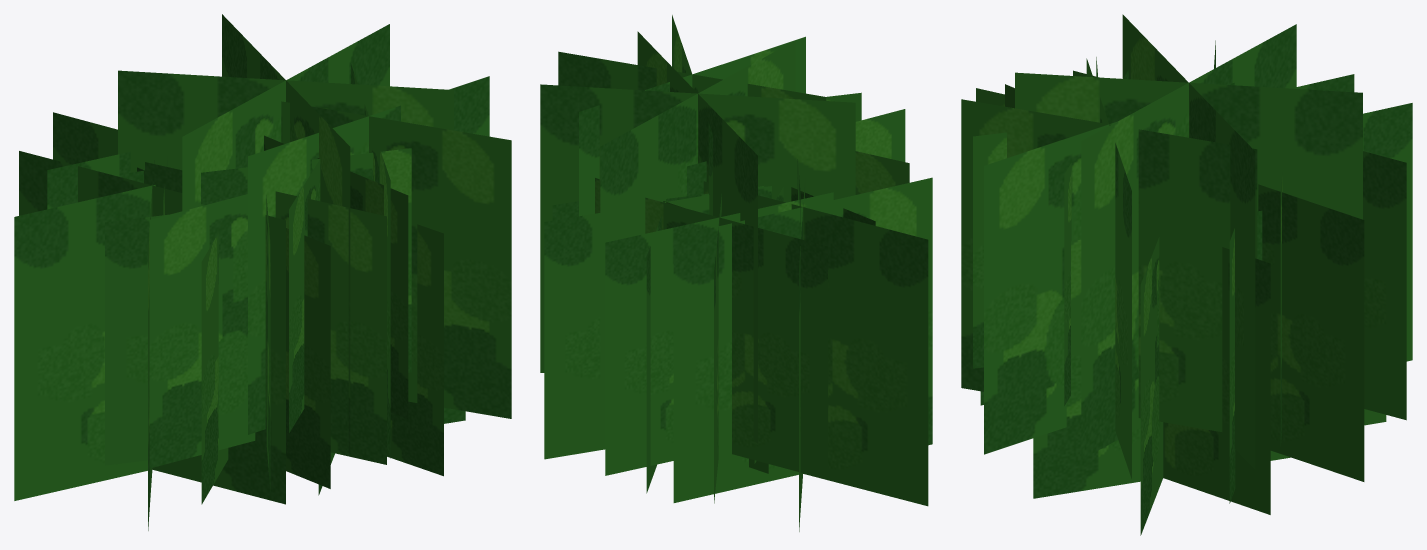
The model's file is bush.glb.
3 views of the same model, side by side, from view 1: azimuth 30°, elevation 25°; view 2: azimuth 150°, elevation 25°; view 3: azimuth 270°, elevation 25° (orthographic). The views are drawn at different scales.
Visible parts, largest first — view 1: bush; view 2: bush; view 3: bush.
Boxes of the visible parts, left/top/right/bottom form: bush: left=14, top=14, right=511, bottom=530; bush: left=540, top=15, right=932, bottom=531; bush: left=961, top=14, right=1412, bottom=535.
Bounding box in the file's own units: 1.29 × 1.04 × 1.12.
1 material, 1 textured.
